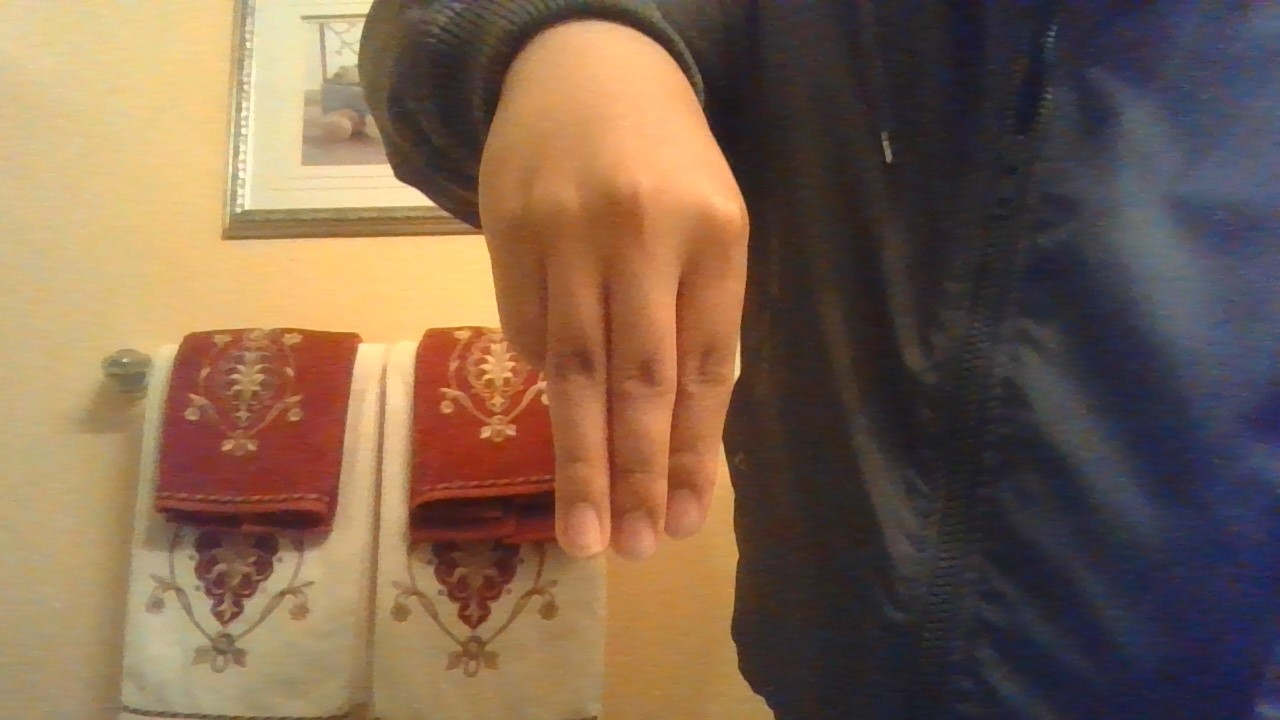m: (370, 2, 798, 550)
